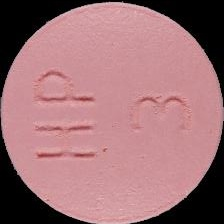49349-644: (0, 0, 224, 224)
